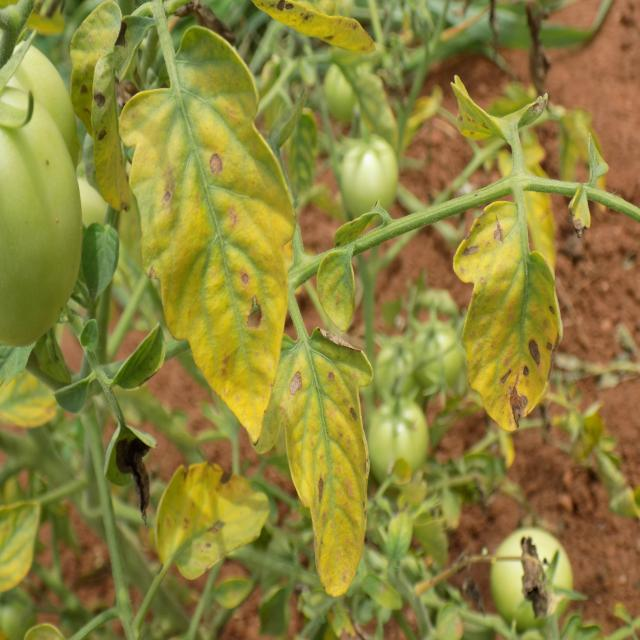tomato_early blight: (117, 30, 293, 444), (451, 199, 563, 429), (282, 334, 371, 594), (154, 462, 274, 578), (88, 42, 156, 217), (448, 75, 554, 152), (252, 0, 382, 58), (0, 360, 60, 428), (320, 244, 359, 336), (0, 501, 34, 598)
